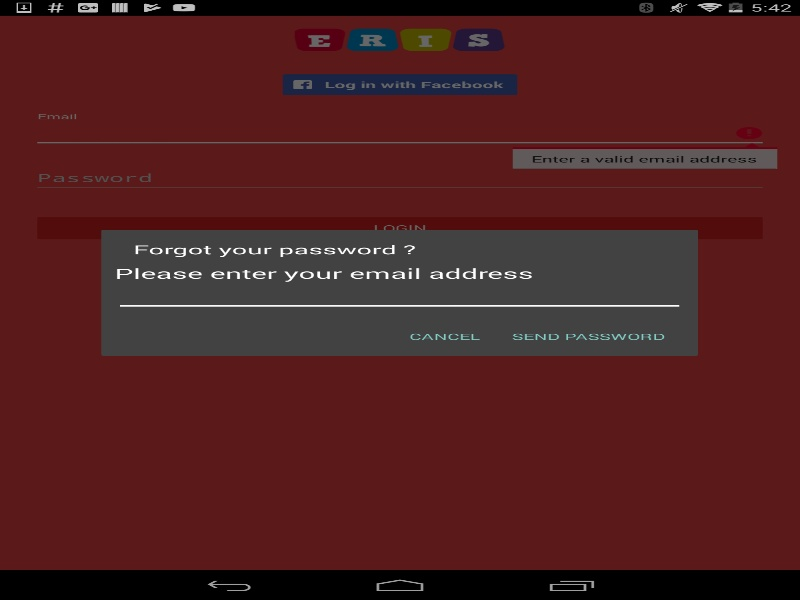Button: (496, 319, 682, 353), (393, 319, 496, 353)
Input: (114, 282, 684, 310)
